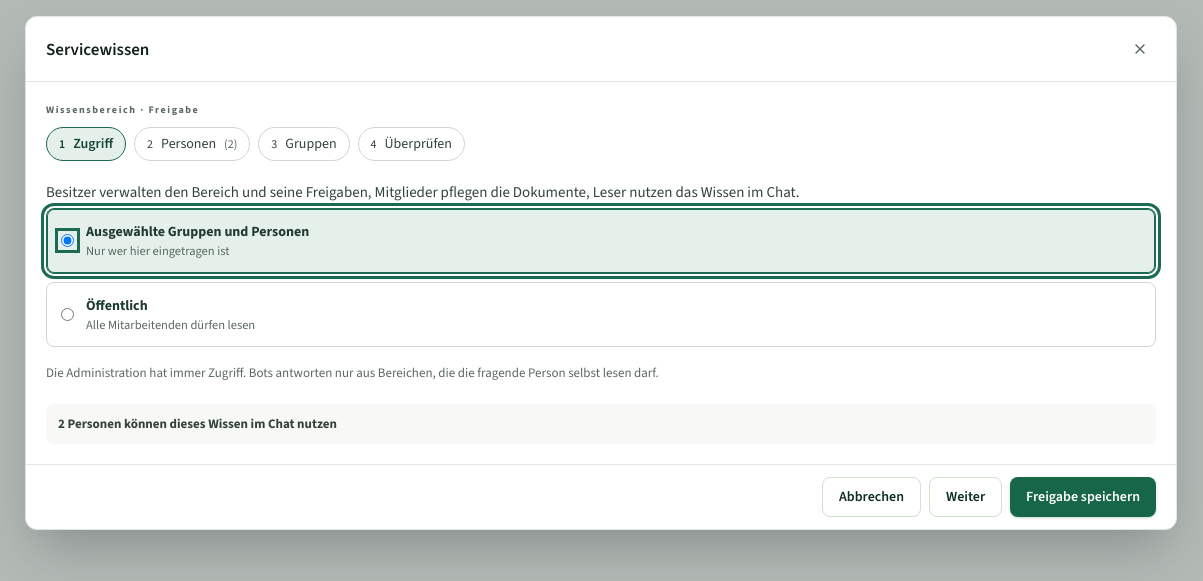
it: keeps roles editable in public mode, since public only affects reading
Click the radio button labelled "Öffentlich Alle Mitarbeitenden dürfen lesen": (68, 314) top-left (61, 308), bottom-right (74, 321)
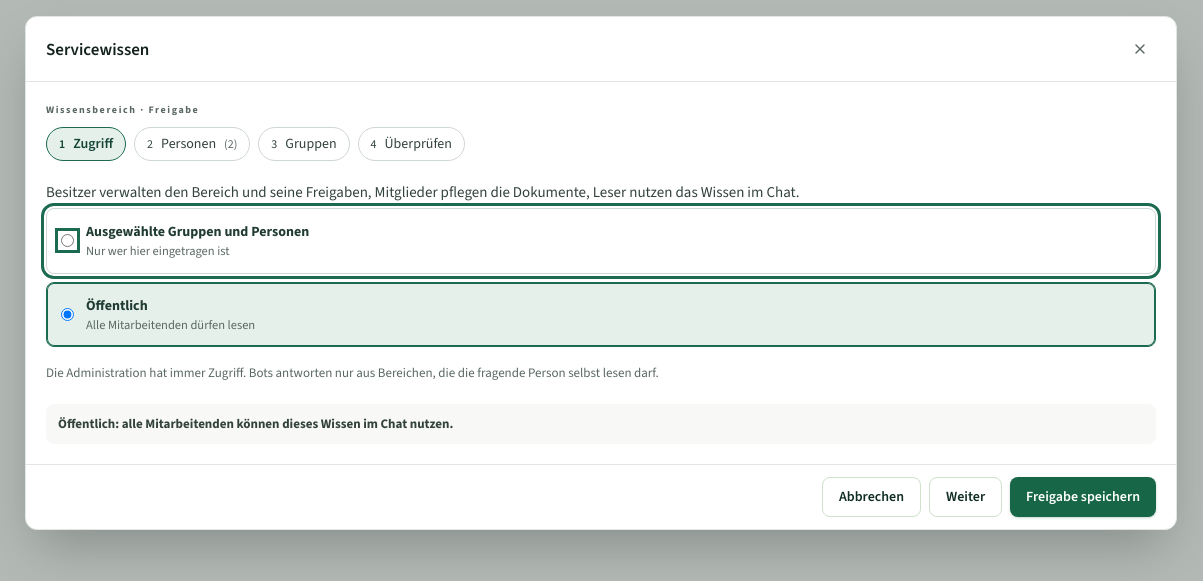
Click the button "3 Gruppen": (304, 144) top-left (258, 127), bottom-right (350, 161)
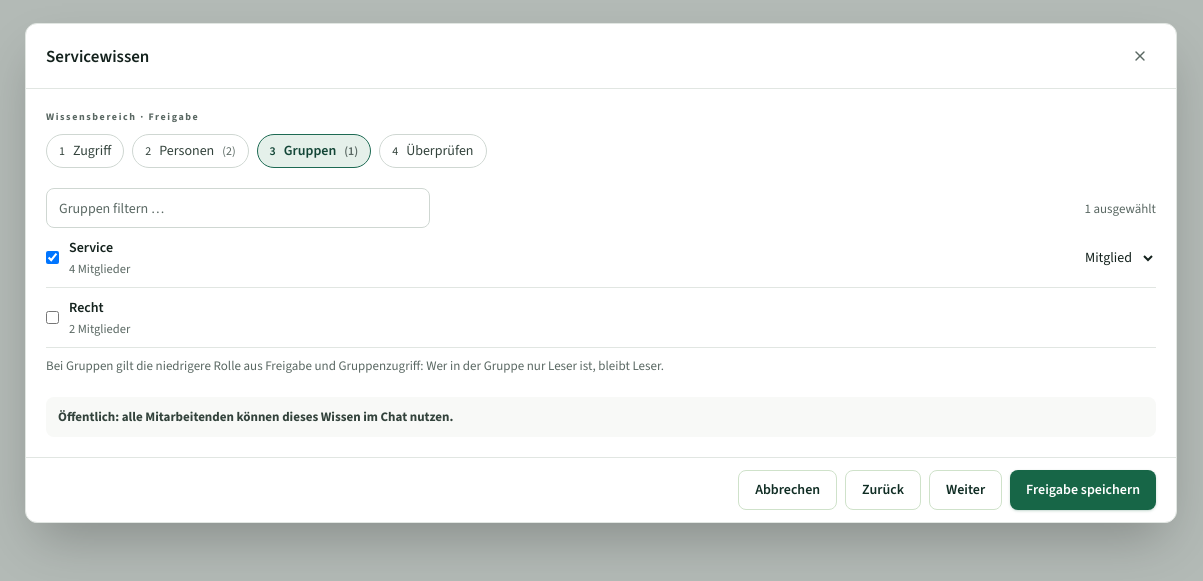
Expected: the checkbox labelled "Service 4 Mitglieder" is shown, top-left (46, 251), bottom-right (59, 264)
Click the button "2 Personen (2)": (190, 151) top-left (132, 134), bottom-right (249, 168)
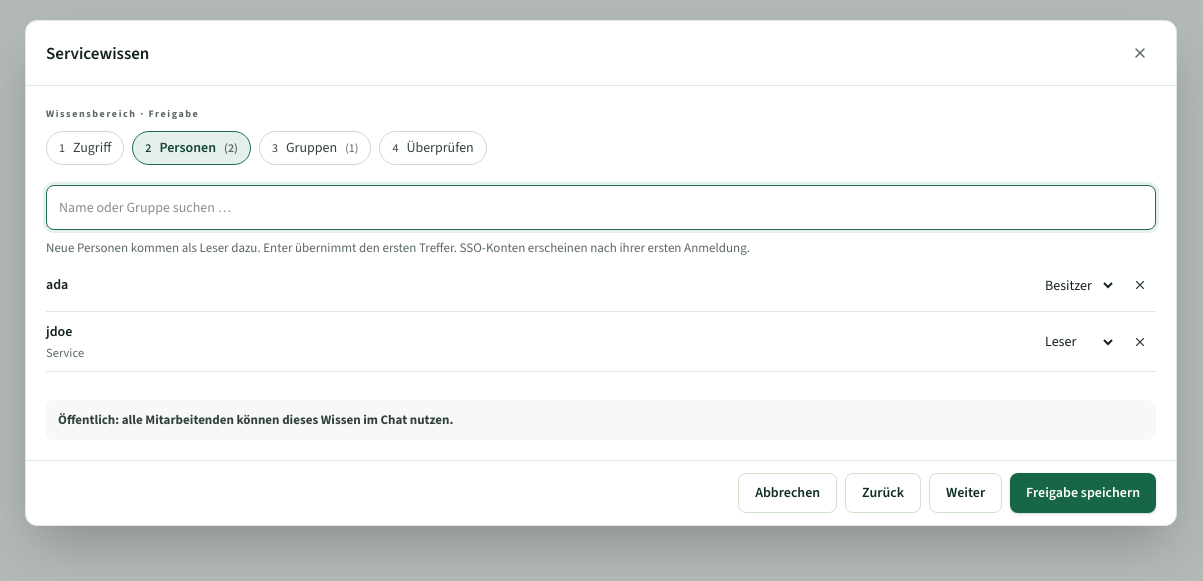
Expected: the text "alle Mitarbeitenden können" is shown, top-left (58, 411), bottom-right (453, 428)
Expected: the dropdown named "Rolle von ada" is shown, top-left (1033, 269), bottom-right (1116, 301)
